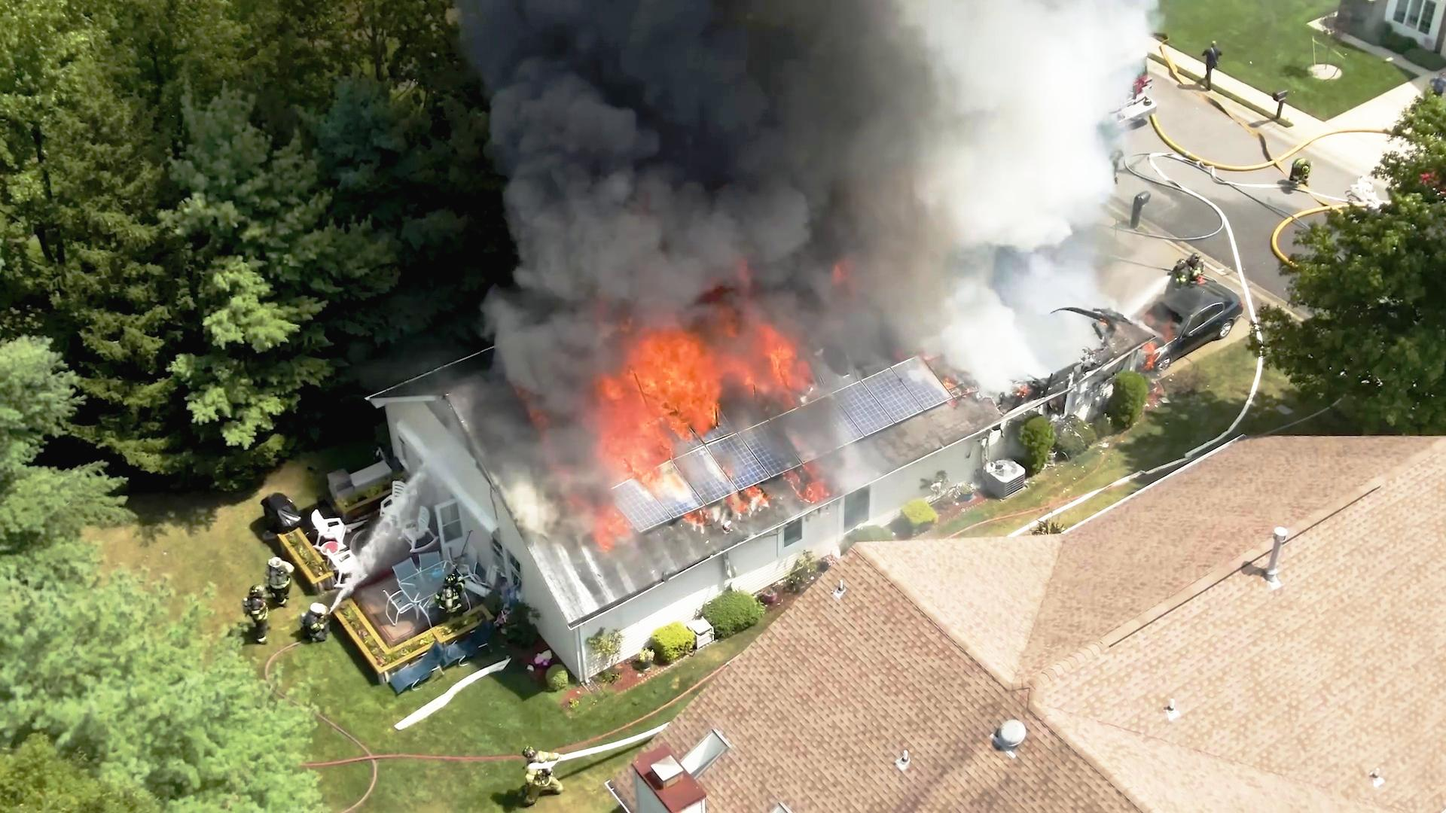fire: (560, 326, 725, 475)
smoke: (556, 0, 942, 279), (850, 0, 1081, 350)
